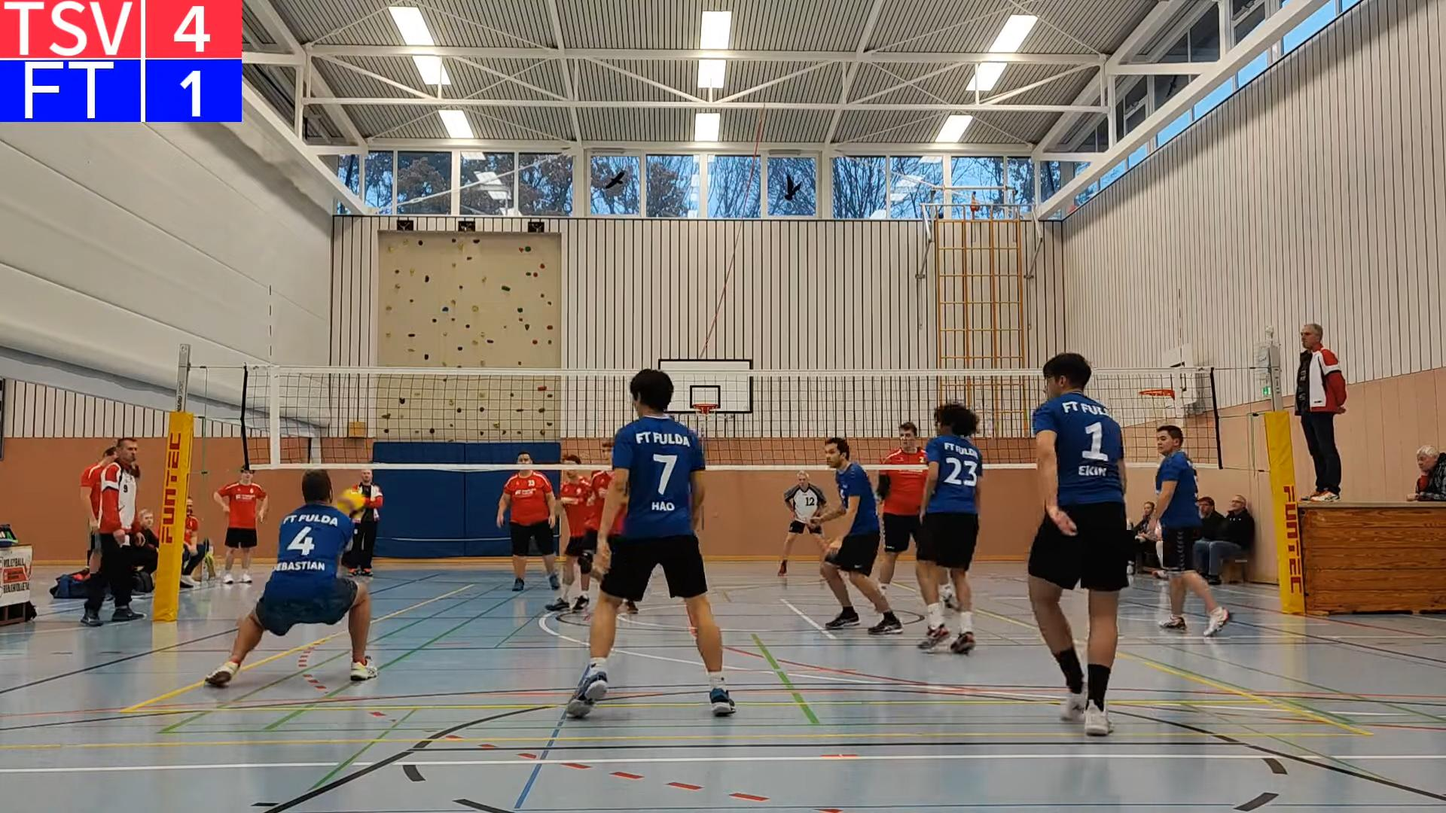ricezione: (195, 477, 379, 693)
